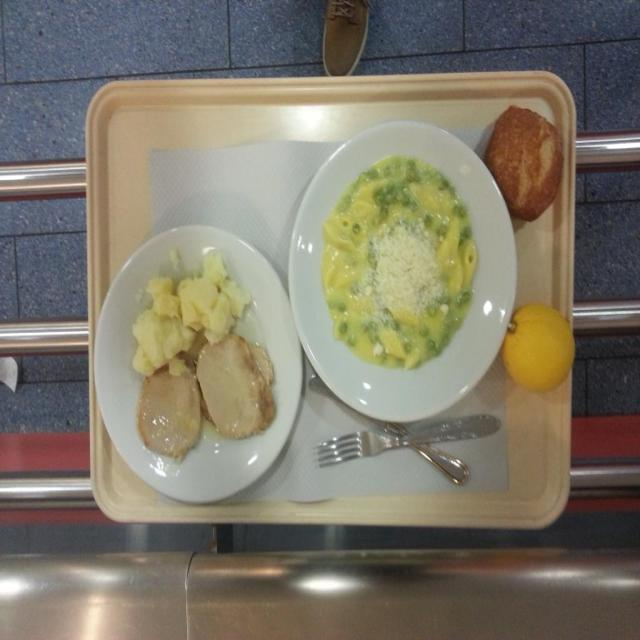plate: (285, 117, 514, 422), (93, 222, 304, 505), (482, 91, 564, 228), (500, 305, 576, 394)
